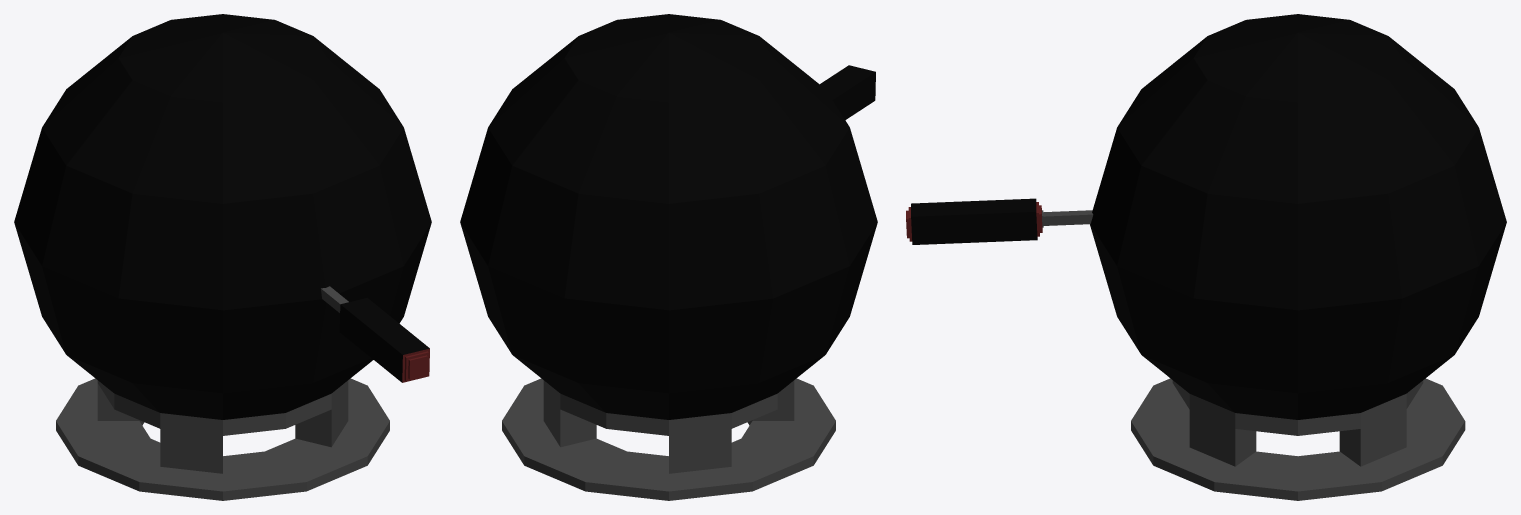
The model's file is demoncore.obj.
3 views of the same model, side by side, from view 1: azimuth 30°, elevation 25°; view 2: azimuth 150°, elevation 25°; view 3: azimuth 270°, elevation 25° (orthographic).
Visible parts, largest first — view 1: spheretop, sphere, tube, screwdriver; view 2: spheretop, sphere, tube, screwdriver; view 3: spheretop, sphere, tube, screwdriver.
Boxes of the visible parts, <box> form: spheretop: <box>14,14,431,310</box>; sphere: <box>14,223,431,419</box>; tube: <box>56,378,389,500</box>; screwdriver: <box>321,286,429,382</box>; spheretop: <box>460,14,877,310</box>; sphere: <box>460,223,877,419</box>; tube: <box>502,378,835,500</box>; screwdriver: <box>820,65,875,119</box>; spheretop: <box>1090,14,1506,310</box>; sphere: <box>1090,222,1506,419</box>; tube: <box>1131,378,1465,500</box>; screwdriver: <box>906,198,1093,244</box>.
Bounding box in the file's own units: 0.625 × 0.6562 × 0.8989.
